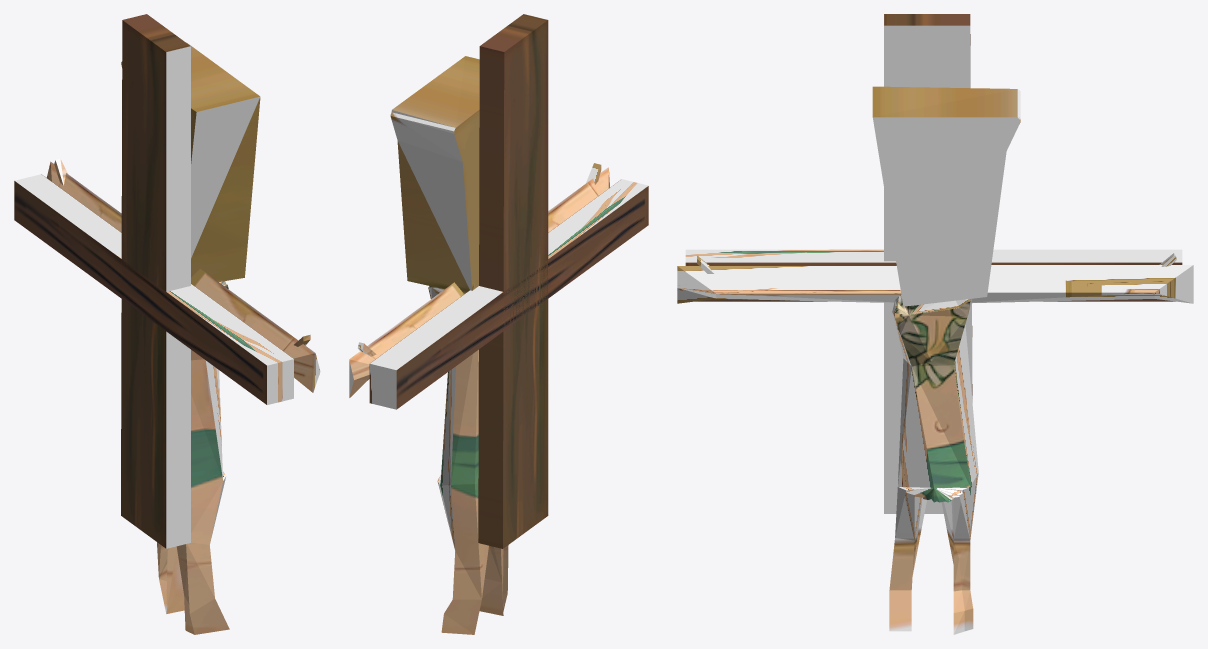
File: Cross.glb
3 views of the same model, side by side, from view 1: azimuth 30°, elevation 25°; view 2: azimuth 150°, elevation 25°; view 3: azimuth 270°, elevation 25° (orthographic).
Visible parts, largest first — view 1: Cross; view 2: Cross; view 3: Cross.
Boxes of the visible parts, left/top/right/bottom form: Cross: left=14, top=14, right=320, bottom=634; Cross: left=349, top=14, right=648, bottom=634; Cross: left=677, top=14, right=1193, bottom=634.
Bounding box in the file's own units: 25.86 × 167 × 133.
Materials: 1 (1 with a texture image).
